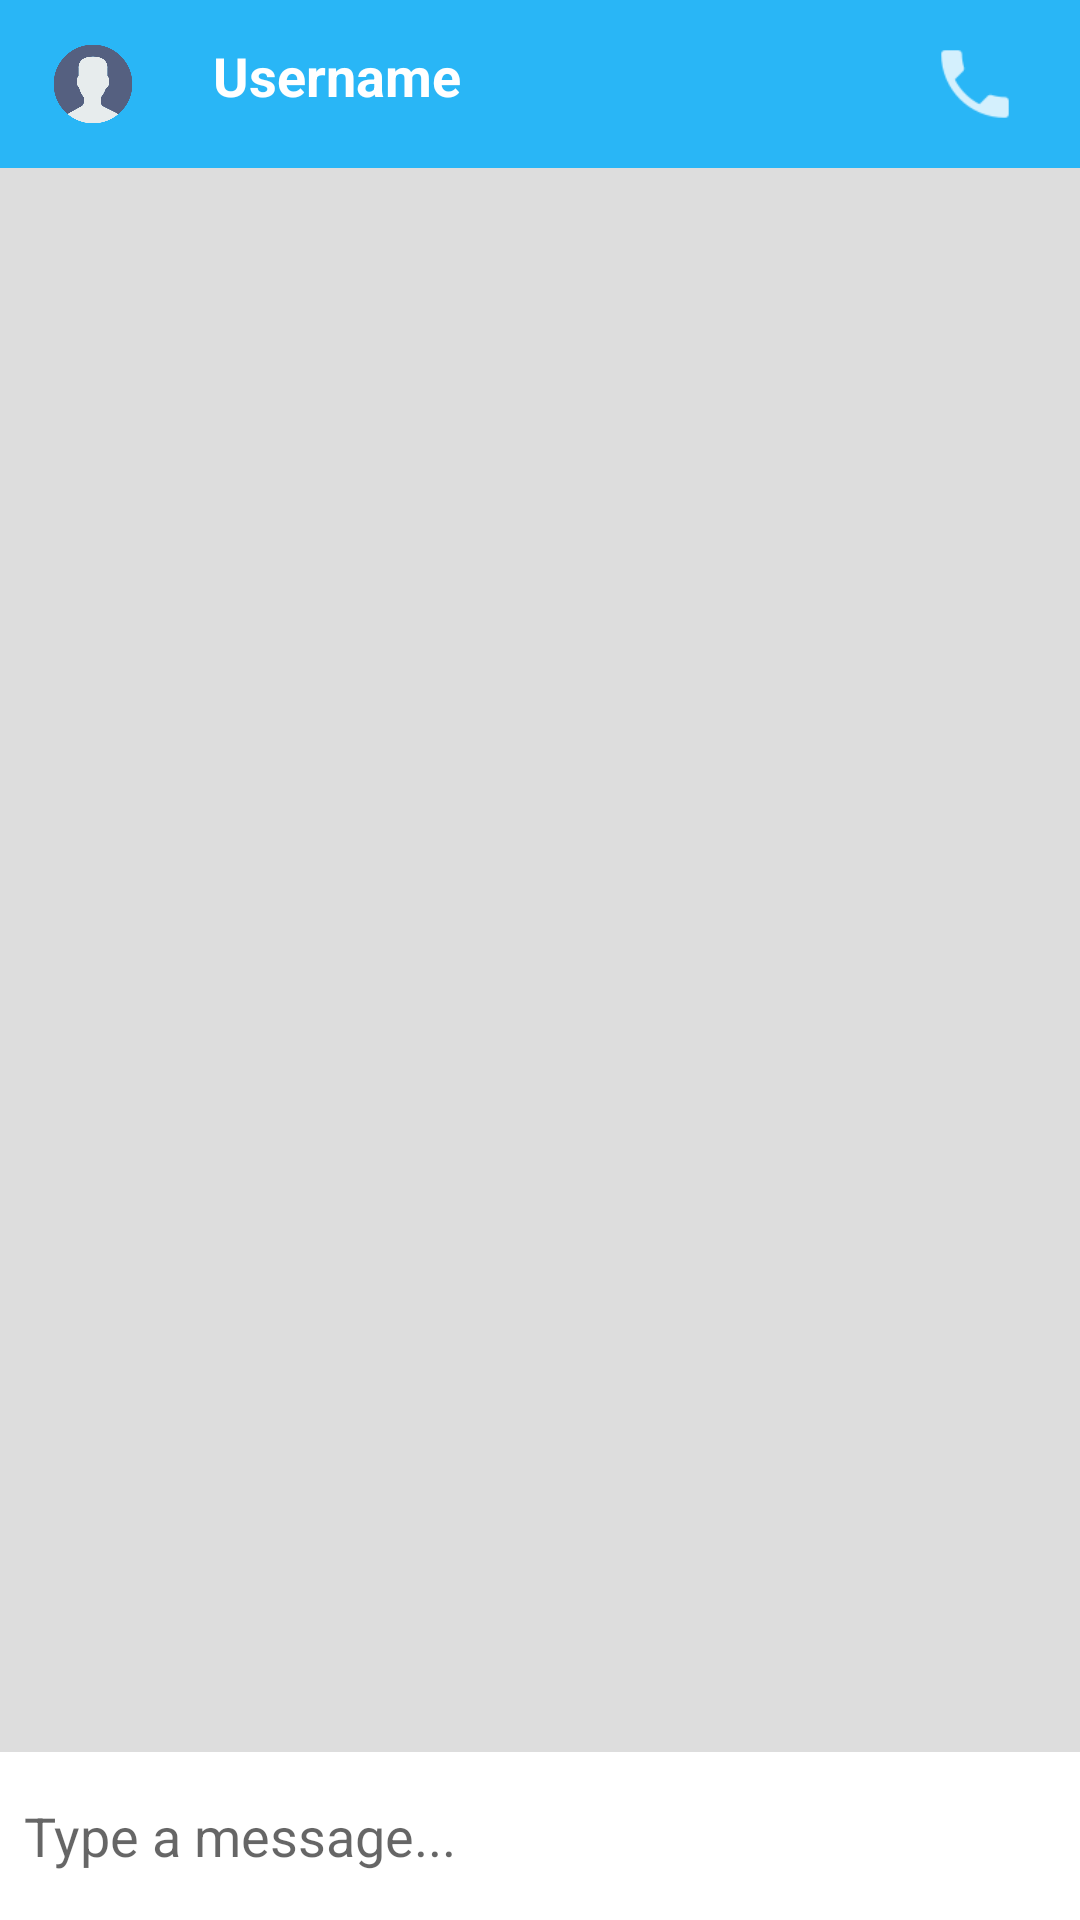

Icons on this 1080px x 1920px Android screen, each with its box as (x1, y1, x2, y2):
phone: (941, 50, 1009, 118)
